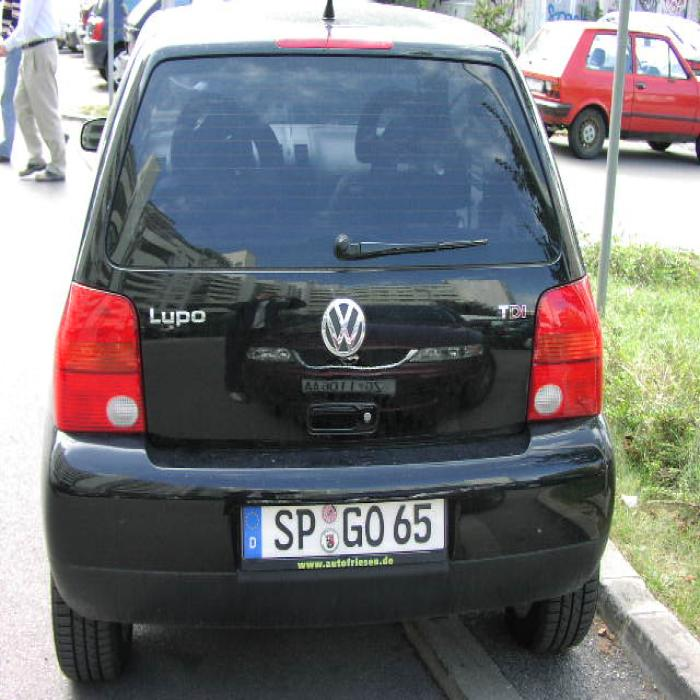number_plate: (243, 499, 443, 556)
